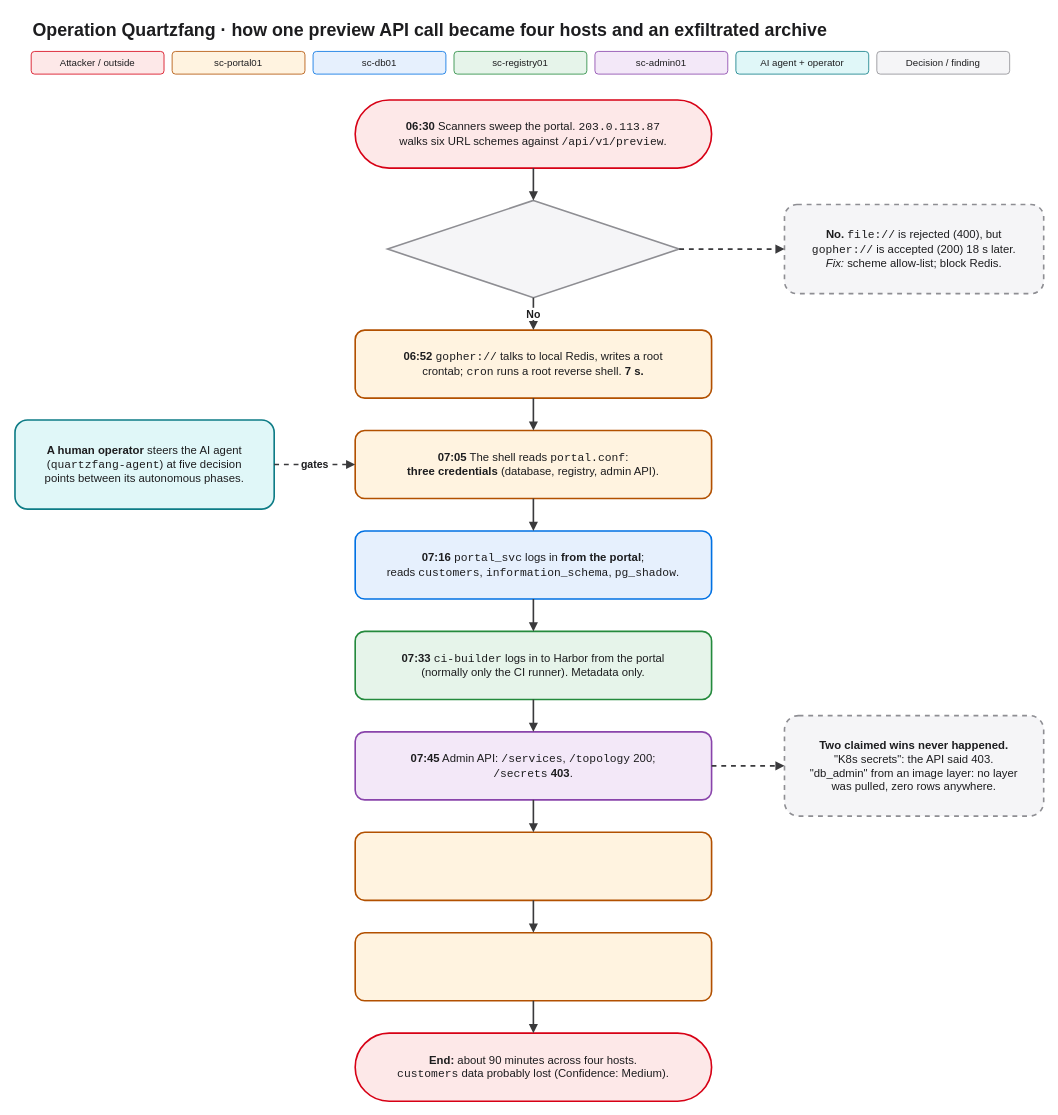
Some shapes in this 1058 by 1115 pixel diagram are drawn without their labels. Here are the shapes that lost their labels. From the top down, the centre of each, then its label:
At point (533, 248): "Does the preview API allow-list URL schemes?".
At point (533, 866): "08:02 to 08:15 tar → gzip → openssl archive, POSTed to 198.51.100.210:443 .".
At point (533, 966): "08:29 svc_monitor created, added to sudo, given an SSH key: a way back in.".
